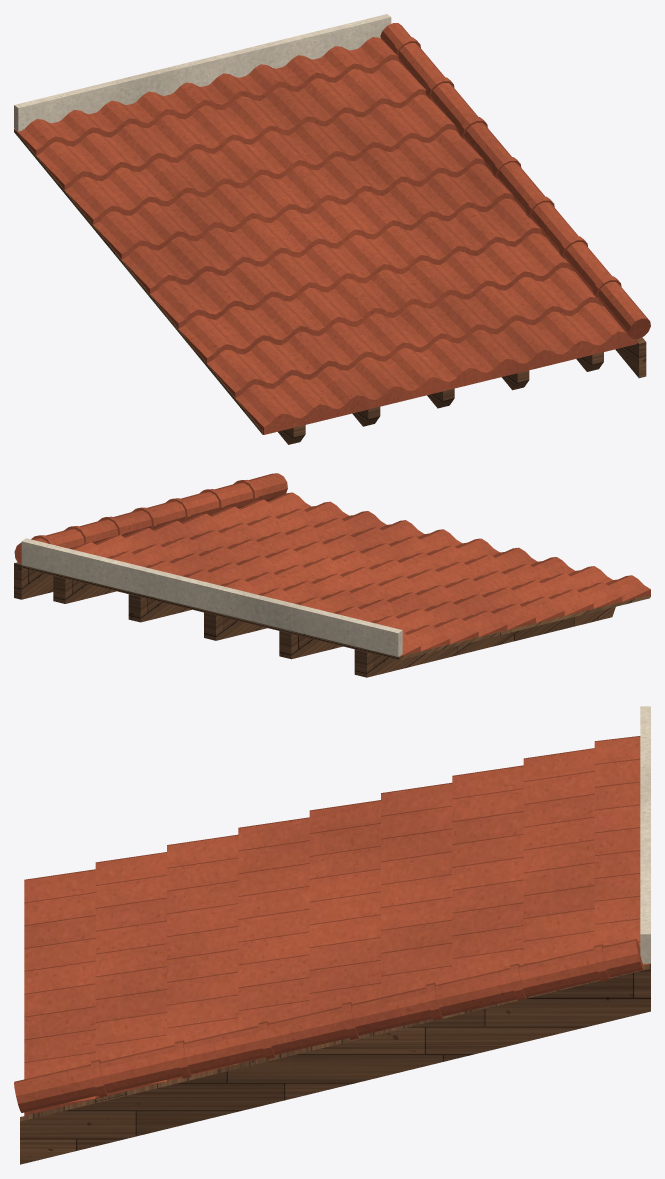
Rendered from arcade_roof_end_r.glb.
The picture shows the model from 3 angles, top to bottom: view 1: azimuth 30°, elevation 25°; view 2: azimuth 150°, elevation 25°; view 3: azimuth 270°, elevation 25°; orthographic projection. The views are drawn at different scales.
Parts seen in each view (by area): view 1: arcade_roof_end_r_tile_clay, arcade_roof_end_r_render, arcade_roof_end_r_wood, arcade_roof_end_r_planks; view 2: arcade_roof_end_r_tile_clay, arcade_roof_end_r_render, arcade_roof_end_r_wood, arcade_roof_end_r_planks; view 3: arcade_roof_end_r_tile_clay, arcade_roof_end_r_wood, arcade_roof_end_r_render.
Part boxes in pixels (<box>): arcade_roof_end_r_tile_clay: <box>15,23,650,434</box>; arcade_roof_end_r_render: <box>14,14,391,131</box>; arcade_roof_end_r_wood: <box>278,337,646,444</box>; arcade_roof_end_r_planks: <box>14,129,263,434</box>; arcade_roof_end_r_tile_clay: <box>14,473,650,656</box>; arcade_roof_end_r_render: <box>21,538,402,656</box>; arcade_roof_end_r_wood: <box>14,562,615,677</box>; arcade_roof_end_r_planks: <box>22,565,650,659</box>; arcade_roof_end_r_tile_clay: <box>14,736,648,1115</box>; arcade_roof_end_r_wood: <box>20,963,650,1164</box>; arcade_roof_end_r_render: <box>640,706,650,963</box>.
Bounding box in the file's own units: 2.59 × 1.15 × 2.95.
Materials: 4 (4 with a texture image).
